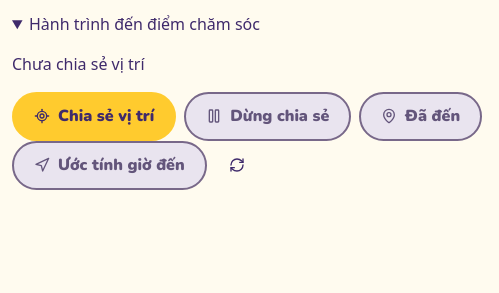
permission failure creates no server sharing session
This screenshot has width=499, height=293.
Step 1. Click the button "Chia sẻ vị trí" → (94, 116), box top-left (12, 92), bottom-right (176, 141)
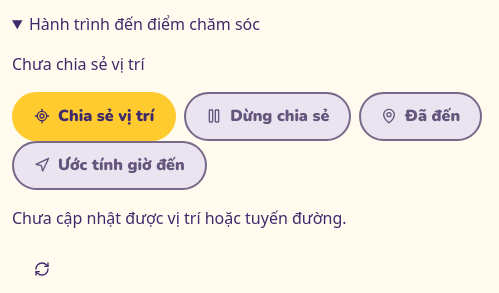
Result: the message shows "Chưa cập nhật" at top-left (12, 207), bottom-right (346, 229)
